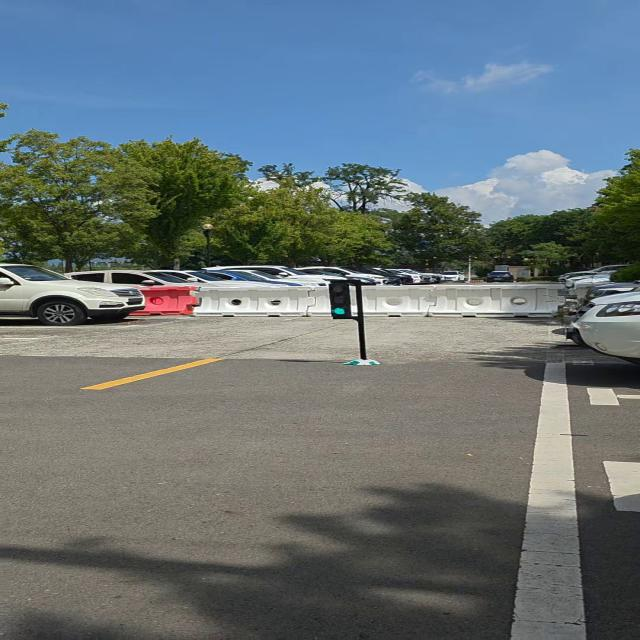green: (329, 280, 355, 321)
